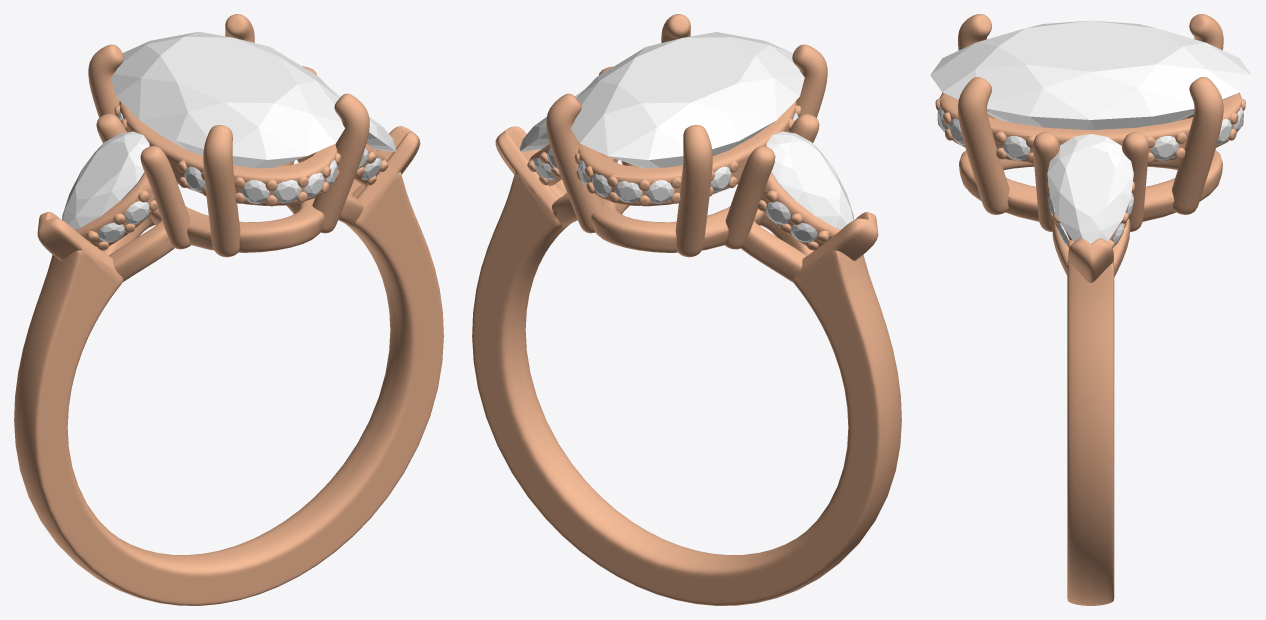
The picture shows the model from 3 angles, left to right: view 1: azimuth 30°, elevation 25°; view 2: azimuth 150°, elevation 25°; view 3: azimuth 270°, elevation 25°; orthographic projection. The views are drawn at different scales.
Parts seen in each view (by area): view 1: object 1, PART0001 (×3); view 2: object 1, PART0001 (×3); view 3: object 1, PART0001 (×4).
Boxes of the visible parts, bbox=[...] form: object 1: bbox=[14, 14, 443, 605]; PART0001 (×3): bbox=[62, 31, 396, 229]; object 1: bbox=[472, 14, 901, 605]; PART0001 (×3): bbox=[519, 32, 854, 229]; object 1: bbox=[935, 14, 1245, 605]; PART0001 (×4): bbox=[930, 20, 1251, 243].
Size of the model in its own units: 2.35 by 2.84 by 1.54.
